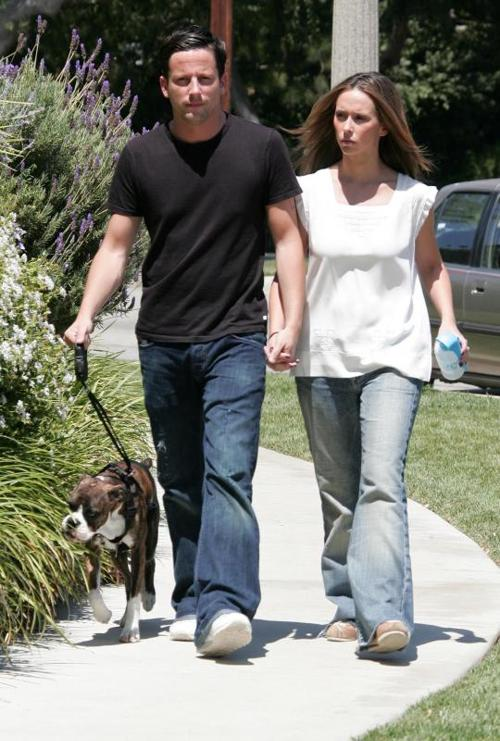person: (66, 31, 306, 654)
